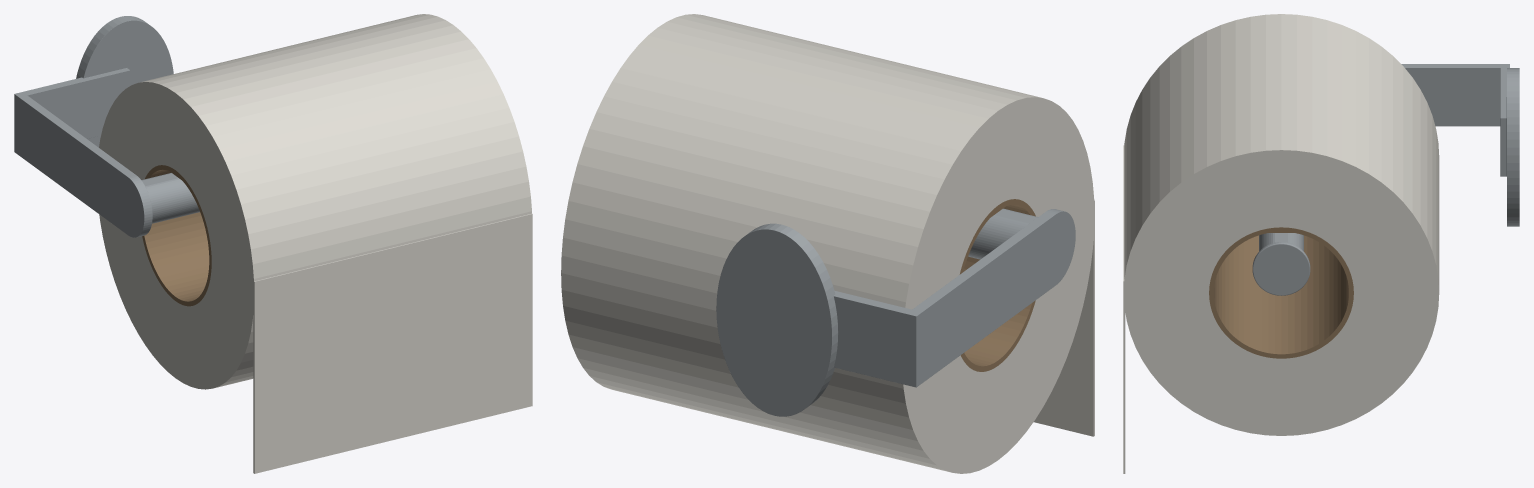
3 views of the same model, side by side, from view 1: azimuth 30°, elevation 25°; view 2: azimuth 150°, elevation 25°; view 3: azimuth 270°, elevation 25° (orthographic). The views are drawn at different scales.
Visible parts, largest first — view 1: Paper_roll_and_connected_short_end, Holder_connected_metal, Hollow_cardboard_core; view 2: Paper_roll_and_connected_short_end, Holder_connected_metal, Hollow_cardboard_core; view 3: Paper_roll_and_connected_short_end, Hollow_cardboard_core, Holder_connected_metal.
Part boxes in pixels (x1,y1,x2,y2): Paper_roll_and_connected_short_end: (99,14,532,473); Holder_connected_metal: (14,16,199,237); Hollow_cardboard_core: (142,165,211,306); Paper_roll_and_connected_short_end: (561,14,1094,473); Holder_connected_metal: (716,208,1075,416); Hollow_cardboard_core: (959,199,1035,371); Paper_roll_and_connected_short_end: (1123,14,1439,473); Hollow_cardboard_core: (1209,227,1353,358); Holder_connected_metal: (1252,64,1519,295).
Size of the model in its own units: 0.13 by 0.111 by 0.1231.
